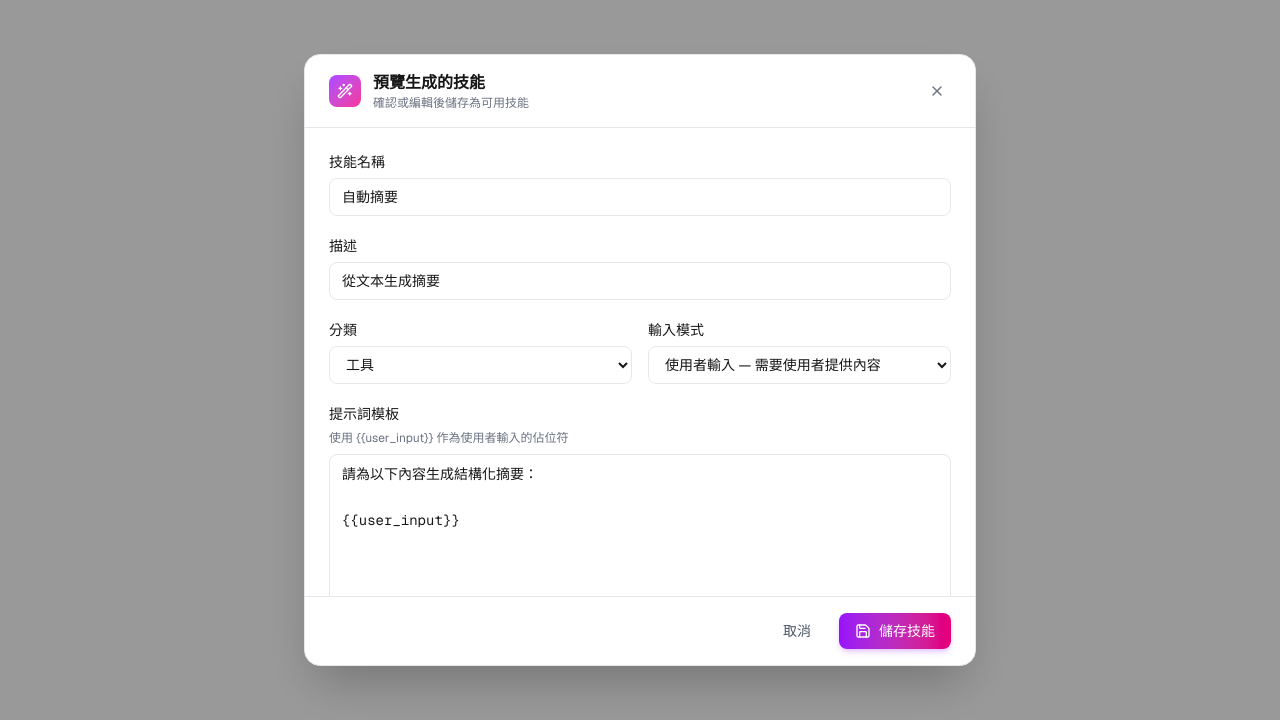
Test: SkillPreviewDialog › Skill Config Editor › should disable save button when description is empty
The width and height of the screenshot is (1280, 720).
Clear the field with test id "skill-description-input" at [640, 281], box 329,262 -> 951,300
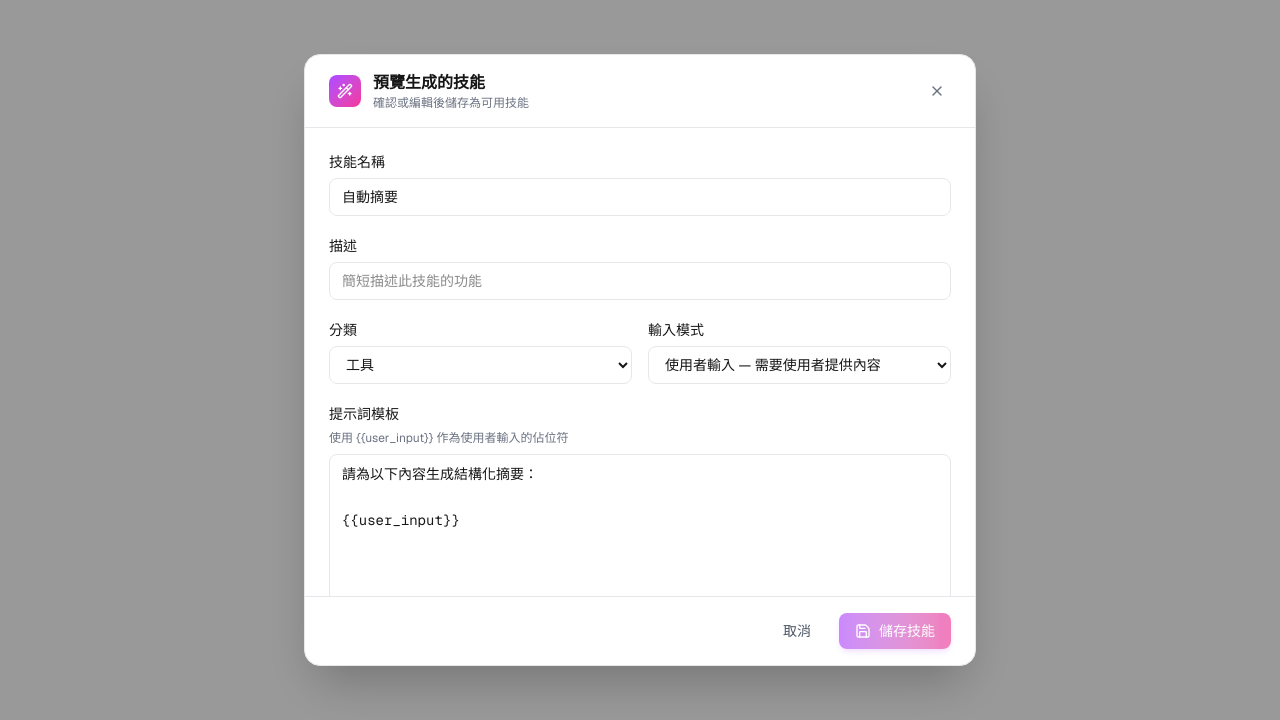
Check: the button with test id "save-skill-btn" is disabled, box 839,613 -> 951,649
